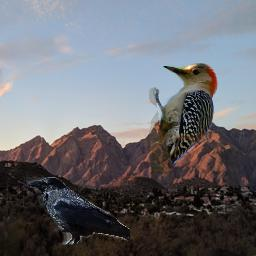Crow: (26, 177, 130, 245)
Woodpecker: (147, 57, 233, 174)
